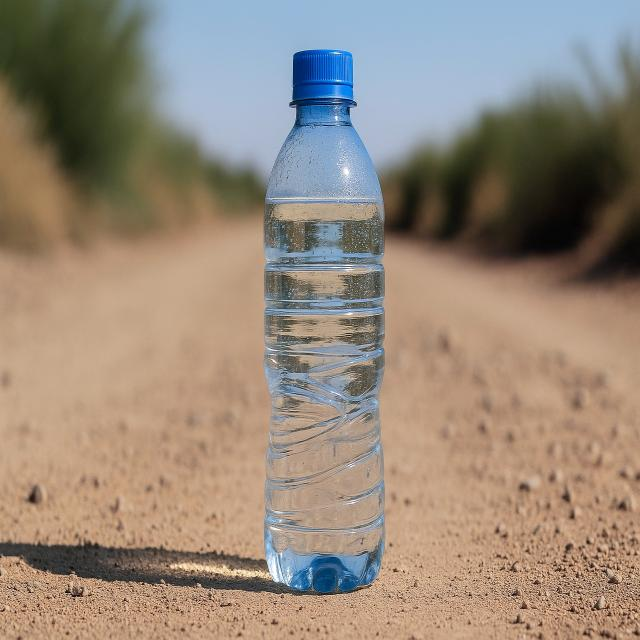blue_bottle: (262, 39, 387, 593)
